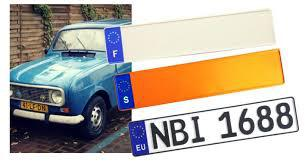1: (217, 110, 237, 139)
6: (237, 107, 256, 135)
8: (254, 104, 274, 133), (276, 100, 294, 130)
B: (170, 118, 190, 146)
I: (189, 115, 207, 144)
N: (148, 121, 170, 149)
